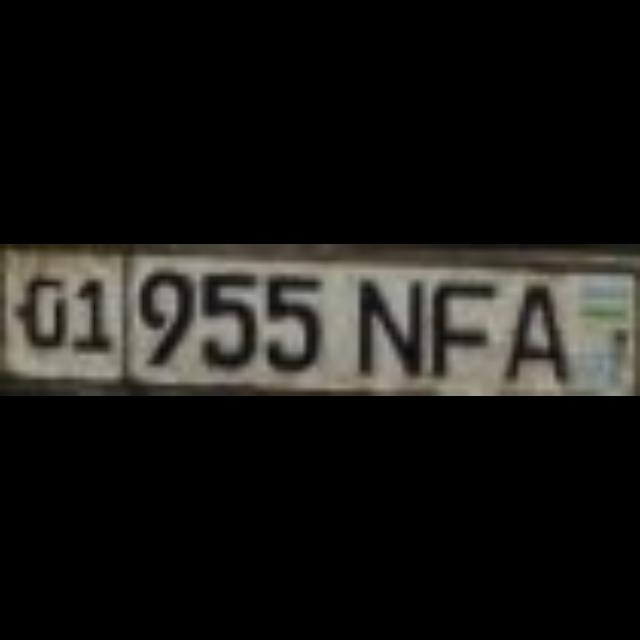0: (18, 268, 62, 342)
1: (66, 268, 110, 348)
5: (196, 262, 256, 366), (262, 268, 318, 366)
9: (128, 262, 188, 360)
A: (499, 274, 566, 378)
F: (426, 274, 494, 372)
N: (354, 274, 421, 372)
